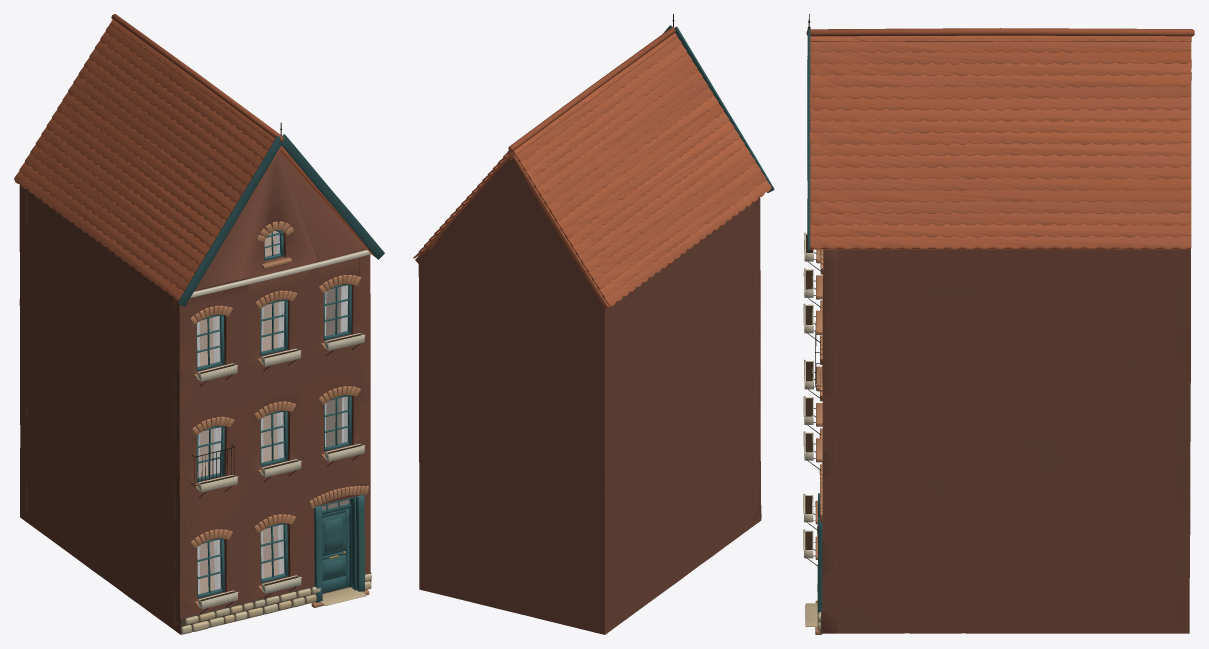
The model's file is StraightEnd_Street1.glb.
3 views of the same model, side by side, from view 1: azimuth 30°, elevation 25°; view 2: azimuth 150°, elevation 25°; view 3: azimuth 270°, elevation 25° (orthographic). The views are drawn at different scales.
Parts seen in each view (by area): view 1: Sammel Ziegel, Sammel Stein, Sammel Lack, Glas, Sammel Putz innen, Vorhang Leinen, Sammel Putz, Sammel Metall; view 2: Sammel Ziegel, Sammel Stein, Sammel Lack; view 3: Sammel Ziegel, Sammel Stein, Sammel Lack, Sammel Putz.
Part boxes in pixels (left/top/right/bottom): Sammel Ziegel: left=19, top=152, right=370, bottom=633; Sammel Stein: left=14, top=14, right=375, bottom=634; Sammel Lack: left=178, top=134, right=384, bottom=609; Glas: left=197, top=231, right=349, bottom=594; Sammel Putz innen: left=199, top=231, right=349, bottom=593; Vorhang Leinen: left=197, top=235, right=347, bottom=594; Sammel Putz: left=179, top=250, right=371, bottom=634; Sammel Metall: left=191, top=122, right=359, bottom=613; Sammel Ziegel: left=418, top=155, right=760, bottom=634; Sammel Stein: left=413, top=27, right=771, bottom=517; Sammel Lack: left=663, top=25, right=774, bottom=192; Sammel Ziegel: left=815, top=80, right=1191, bottom=634; Sammel Stein: left=805, top=28, right=1194, bottom=631; Sammel Lack: left=803, top=26, right=822, bottom=622; Sammel Putz: left=805, top=235, right=822, bottom=633.
Bounding box in the file's own units: 5.96 × 13.7 × 8.52.
